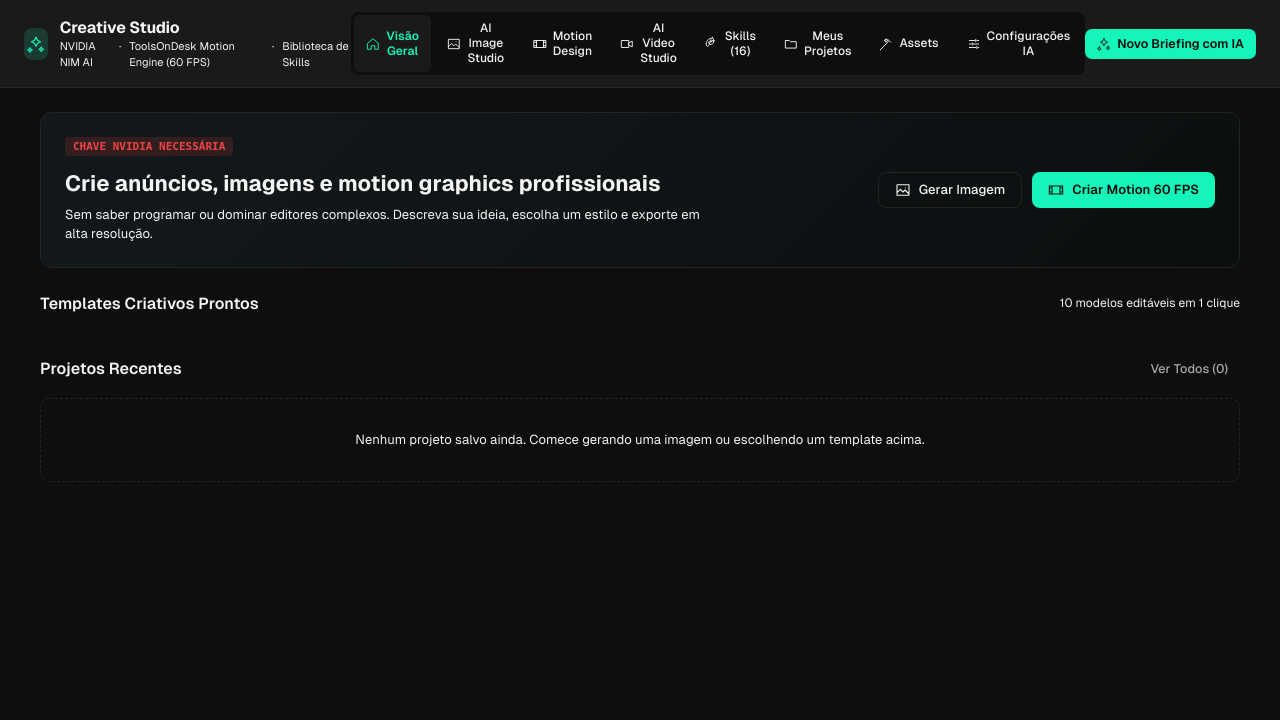
Test case: Creative Studio Frontend Component Tests › switches between studio subtabs smoothly
The width and height of the screenshot is (1280, 720).
Click the button "Motion Design" at coordinates (562, 44), box [521,15,604,72]
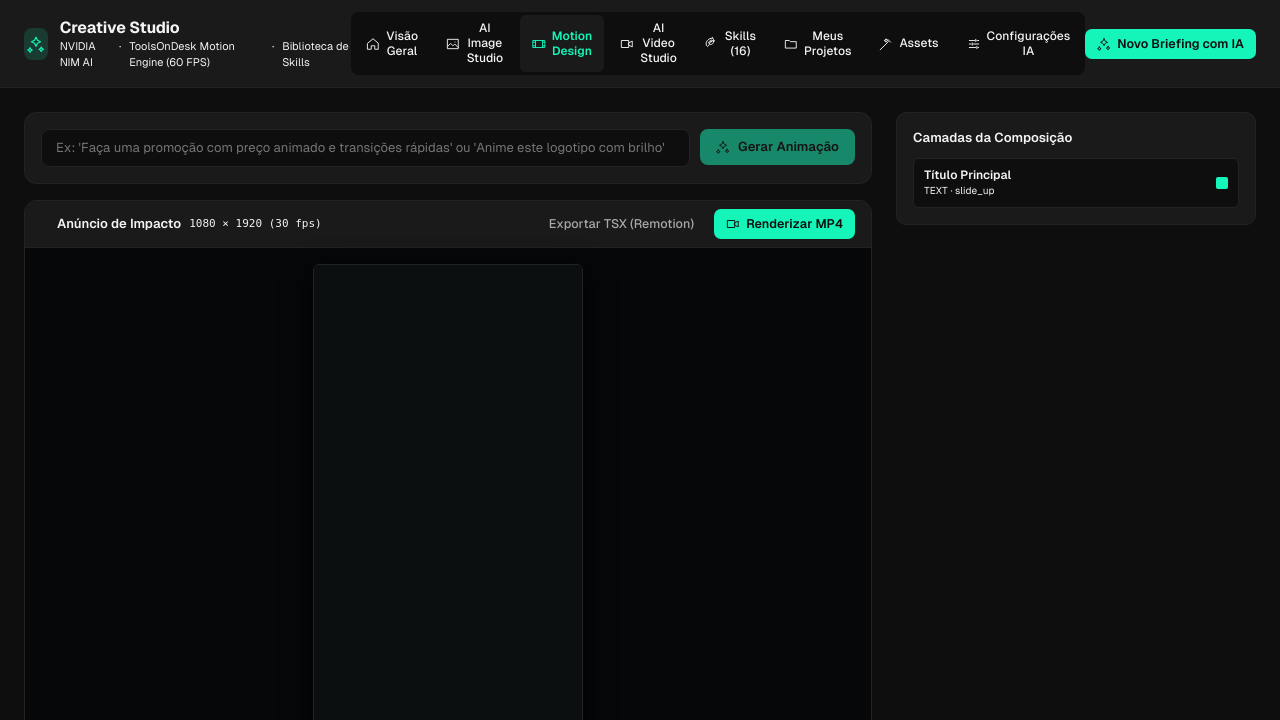
Check: the field with placeholder "Anime este logotipo" is shown, box [41,129,690,167]
Click the button "AI Image Studio" at coordinates (475, 44), box [434,15,516,72]
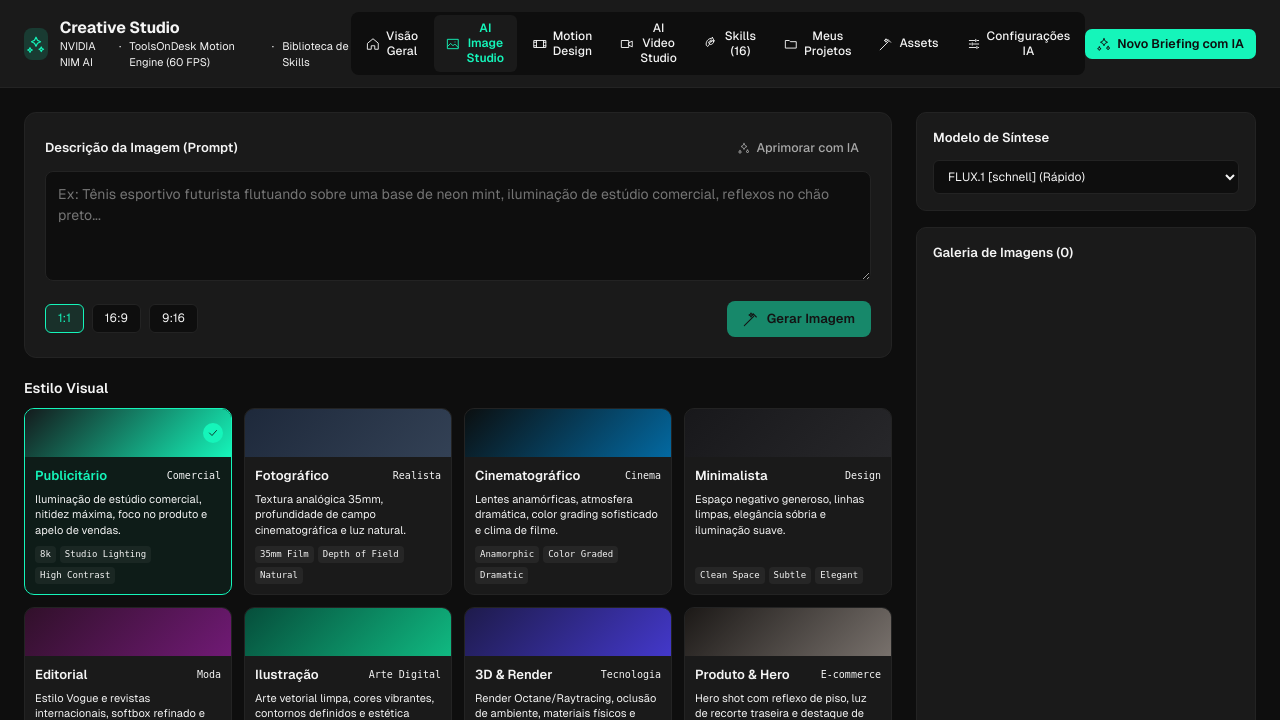
Check: the text "Descrição da Imagem (Prompt)" is shown, box [45,139,238,157]
Click the button "Skills (16)" at coordinates (730, 44), box [693,15,768,72]
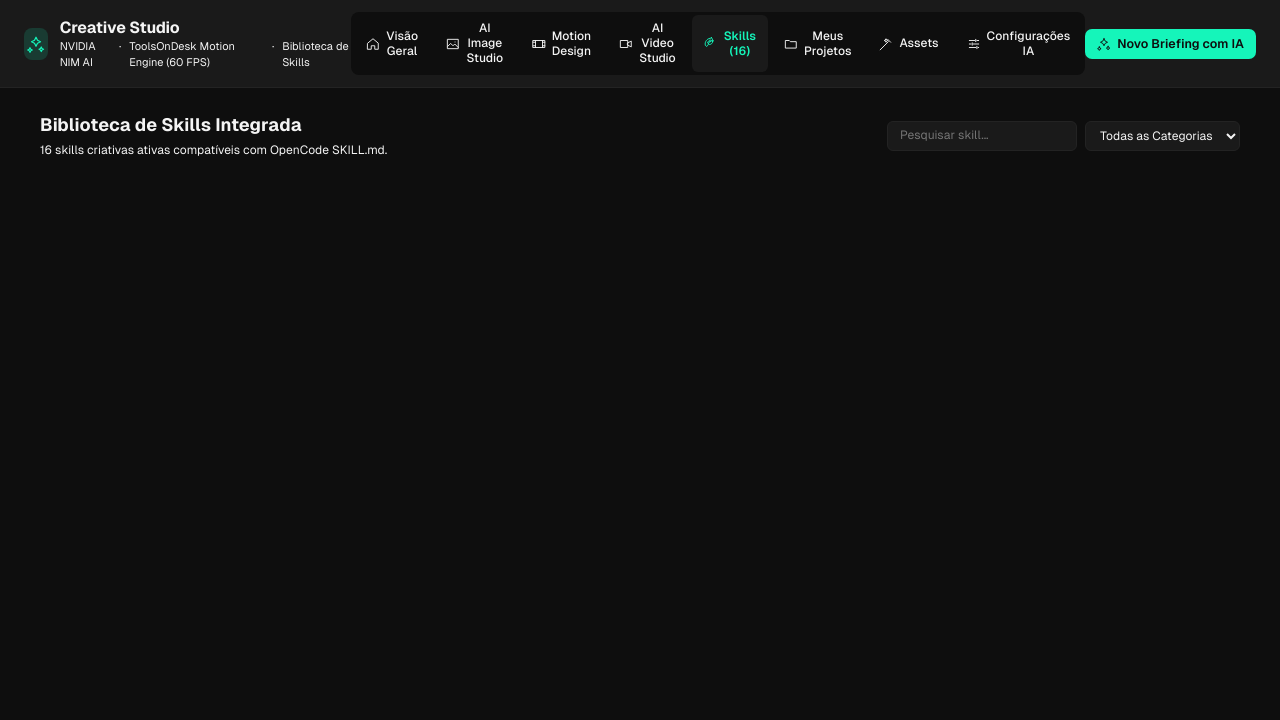
Check: the heading "Biblioteca de Skills Integrada" is shown, box [40,114,302,135]
